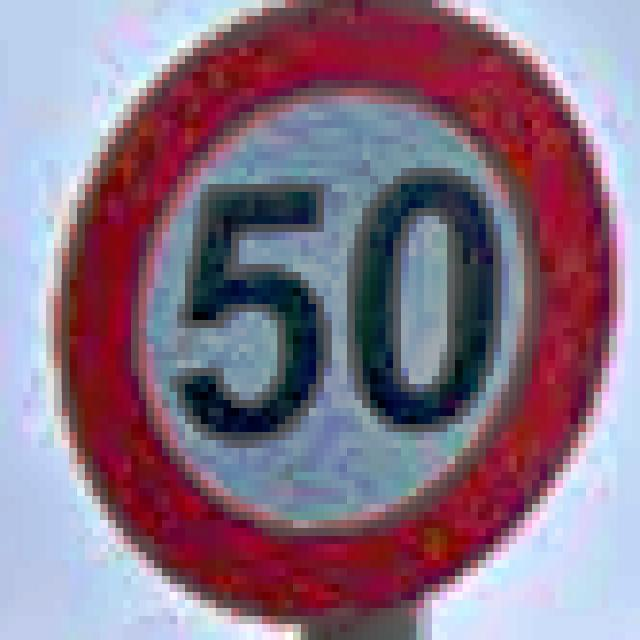max50: (46, 0, 617, 624)
